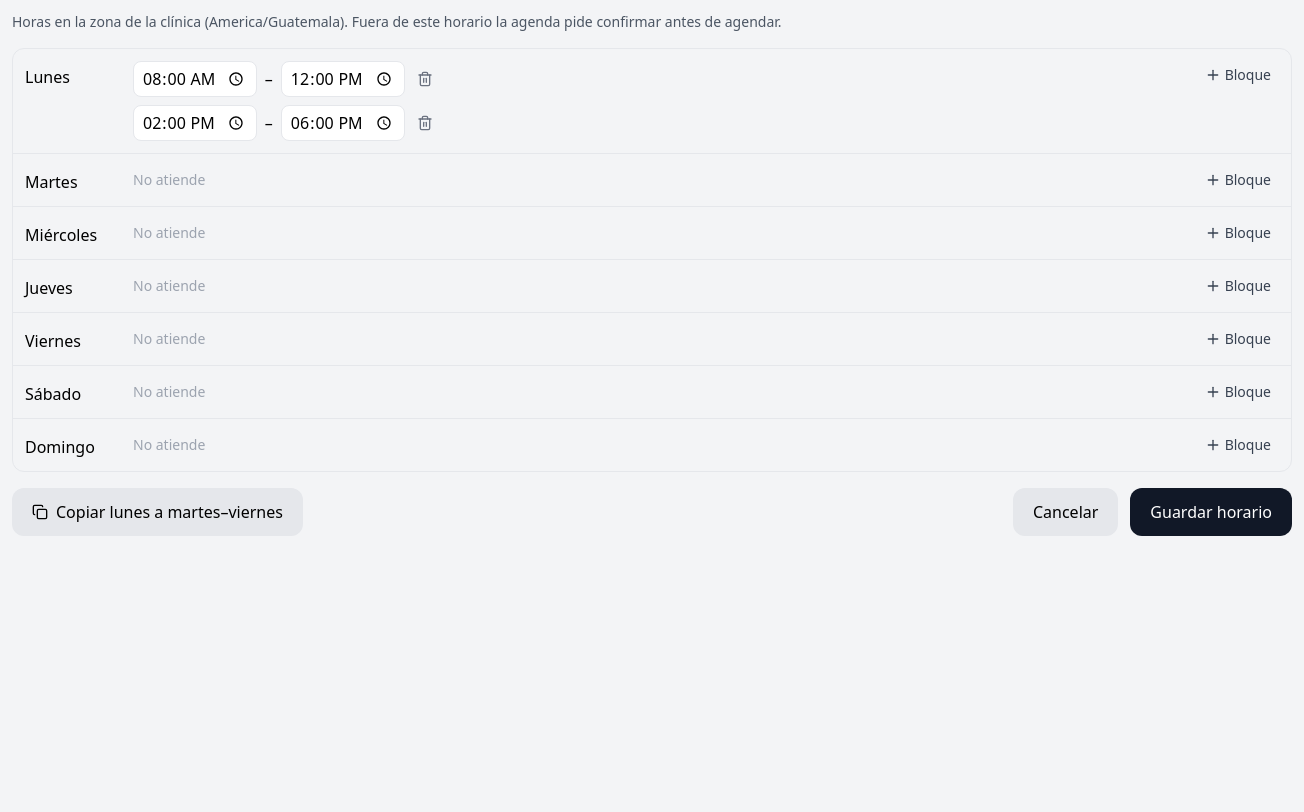
DoctorScheduleEditor › valida en el navegador que la hora de fin sea posterior
Replace the text in the time field named "Lunes, bloque 1, hasta" with "07:00". click: (343, 79)
box: left=281, top=61, right=405, bottom=97
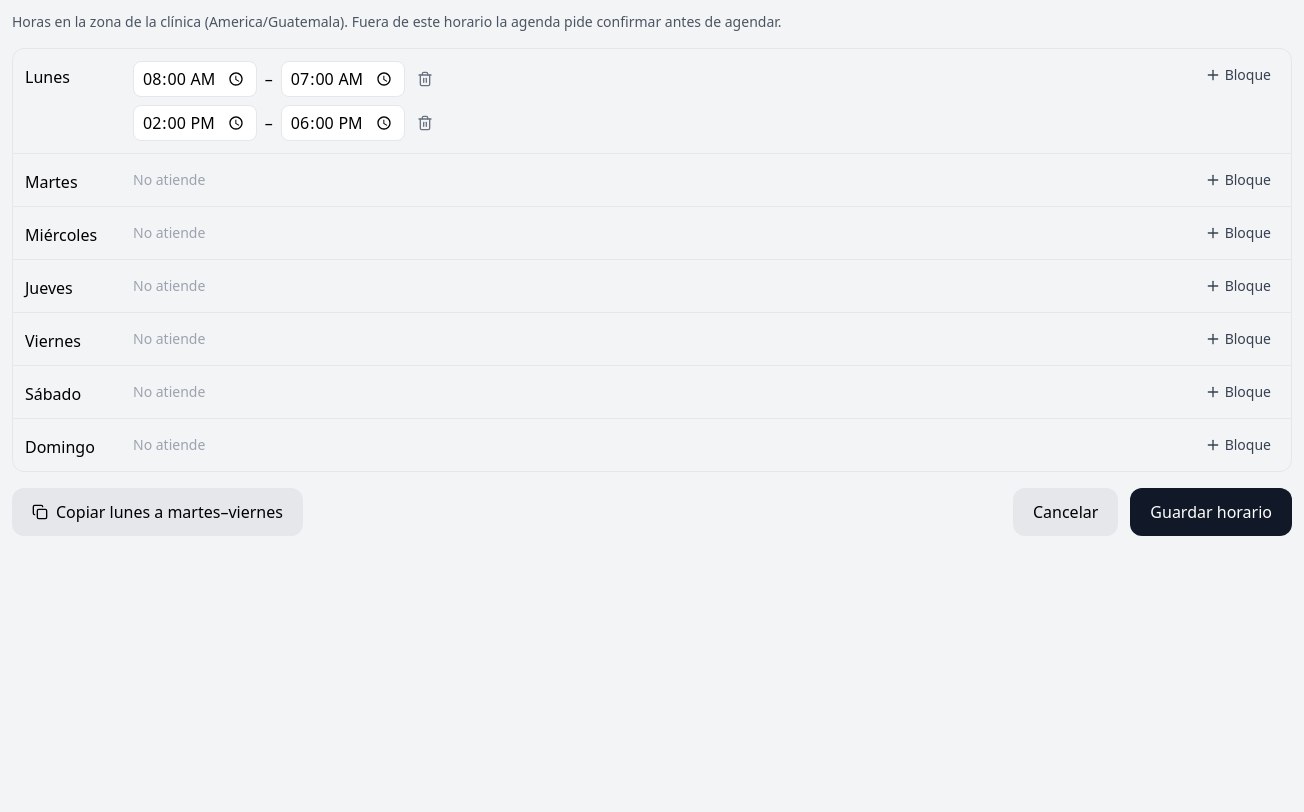
Click the button "Guardar horario". click: (1211, 512)
box: left=1130, top=488, right=1292, bottom=536
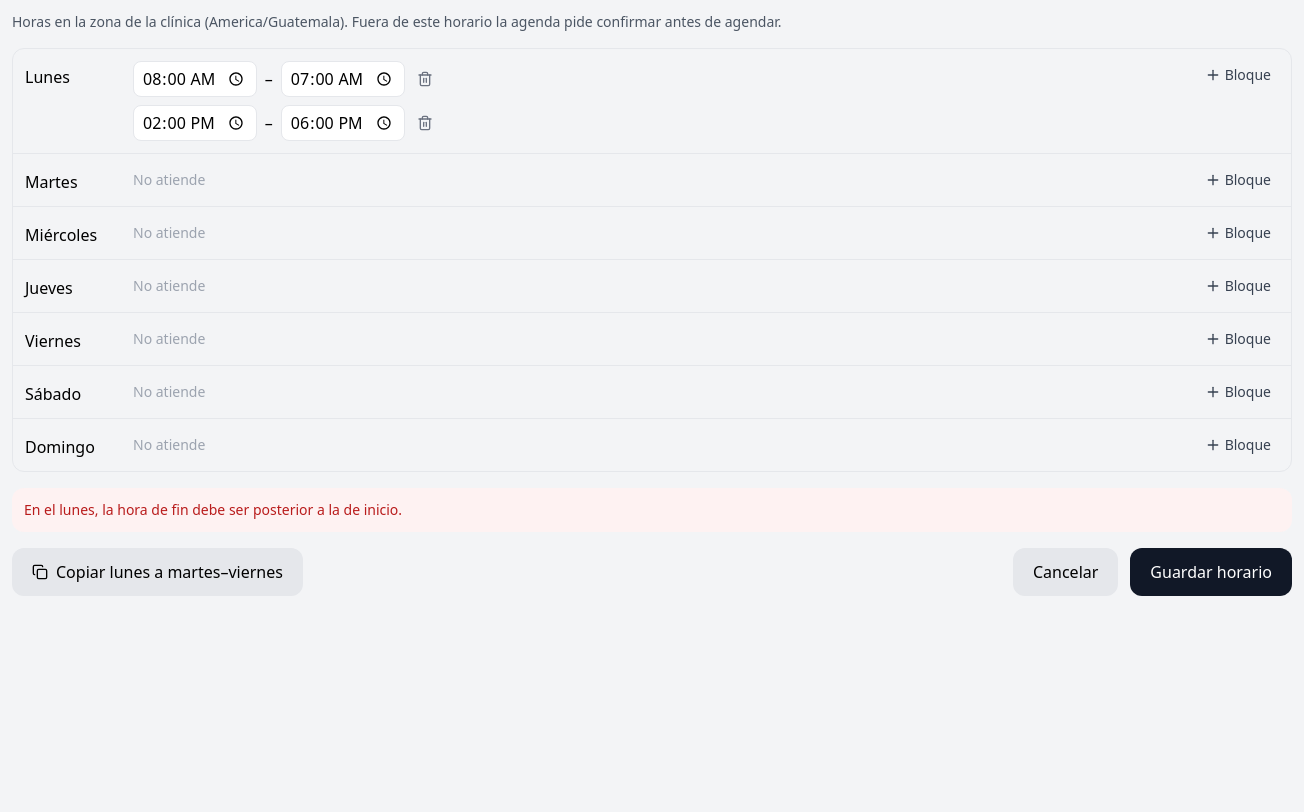
Now the message shows "posterior", box left=24, top=500, right=402, bottom=519
